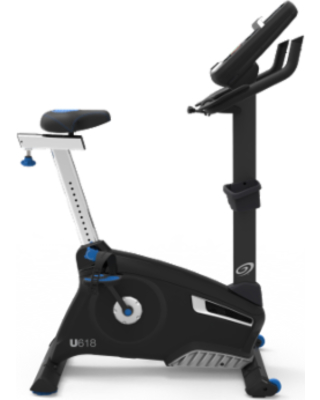gym_bike: (19, 1, 299, 392)
